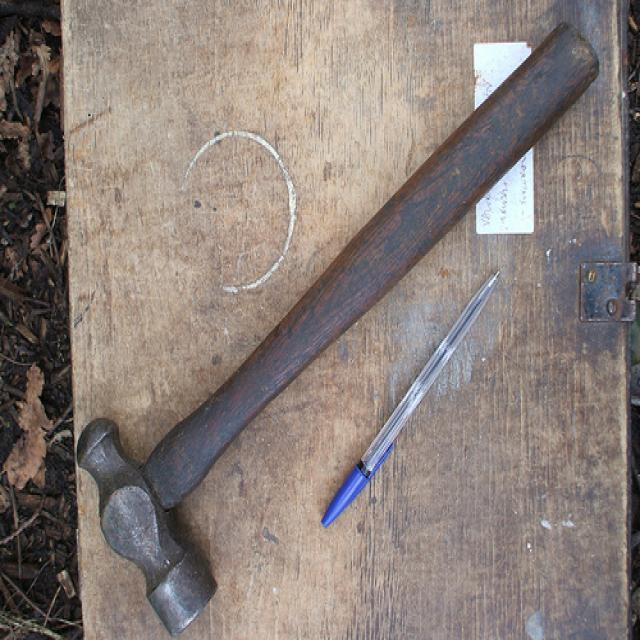hammer: (70, 12, 608, 640)
